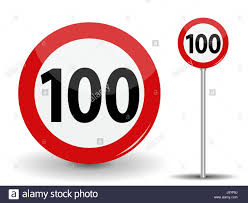Speed_limit_100km: (16, 22, 162, 166), (177, 17, 229, 69)
